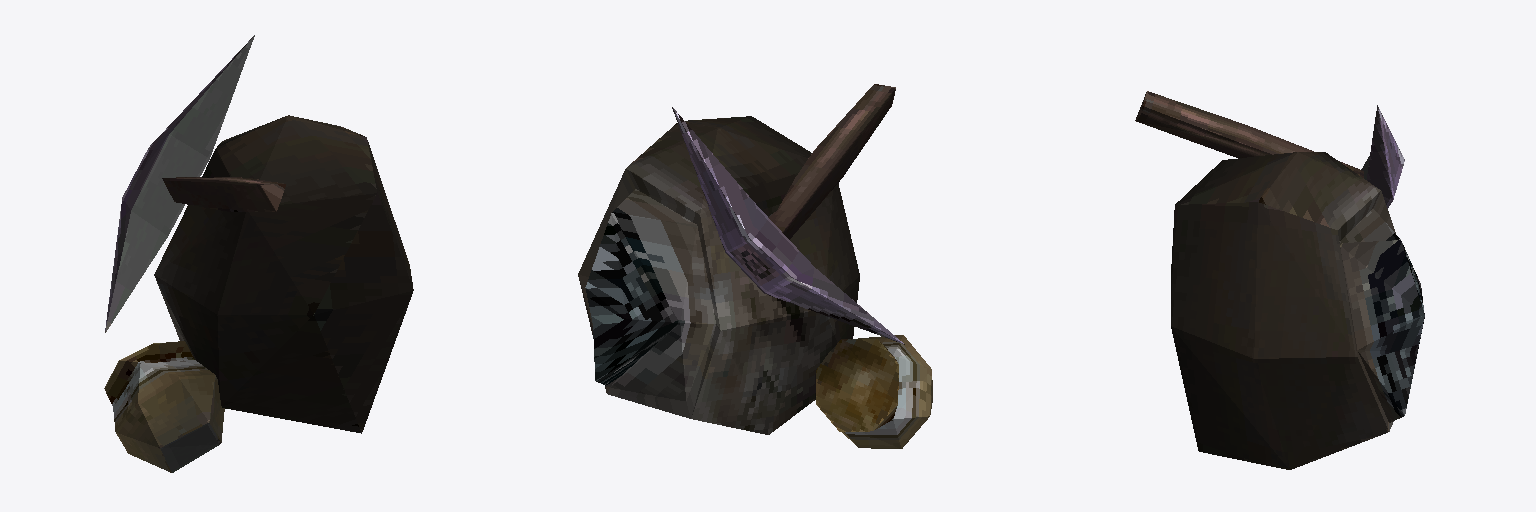
3 renders of one model, left to right at view 1: azimuth 30°, elevation 25°; view 2: azimuth 150°, elevation 25°; view 3: azimuth 270°, elevation 25°, orthographic.
Parts seen in each view (by area): view 1: Node 0; view 2: Node 0; view 3: Node 0.
Boxes of the visible parts, x1=… form: Node 0: x1=104, y1=35, x2=413, y2=472; Node 0: x1=578, y1=84, x2=932, y2=448; Node 0: x1=1135, y1=91, x2=1424, y2=469.
Bounding box in the file's own units: 0.88 × 0.97 × 0.73.
Materials: 1 (1 with a texture image).